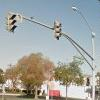Traffic light: (7, 6, 65, 50)
